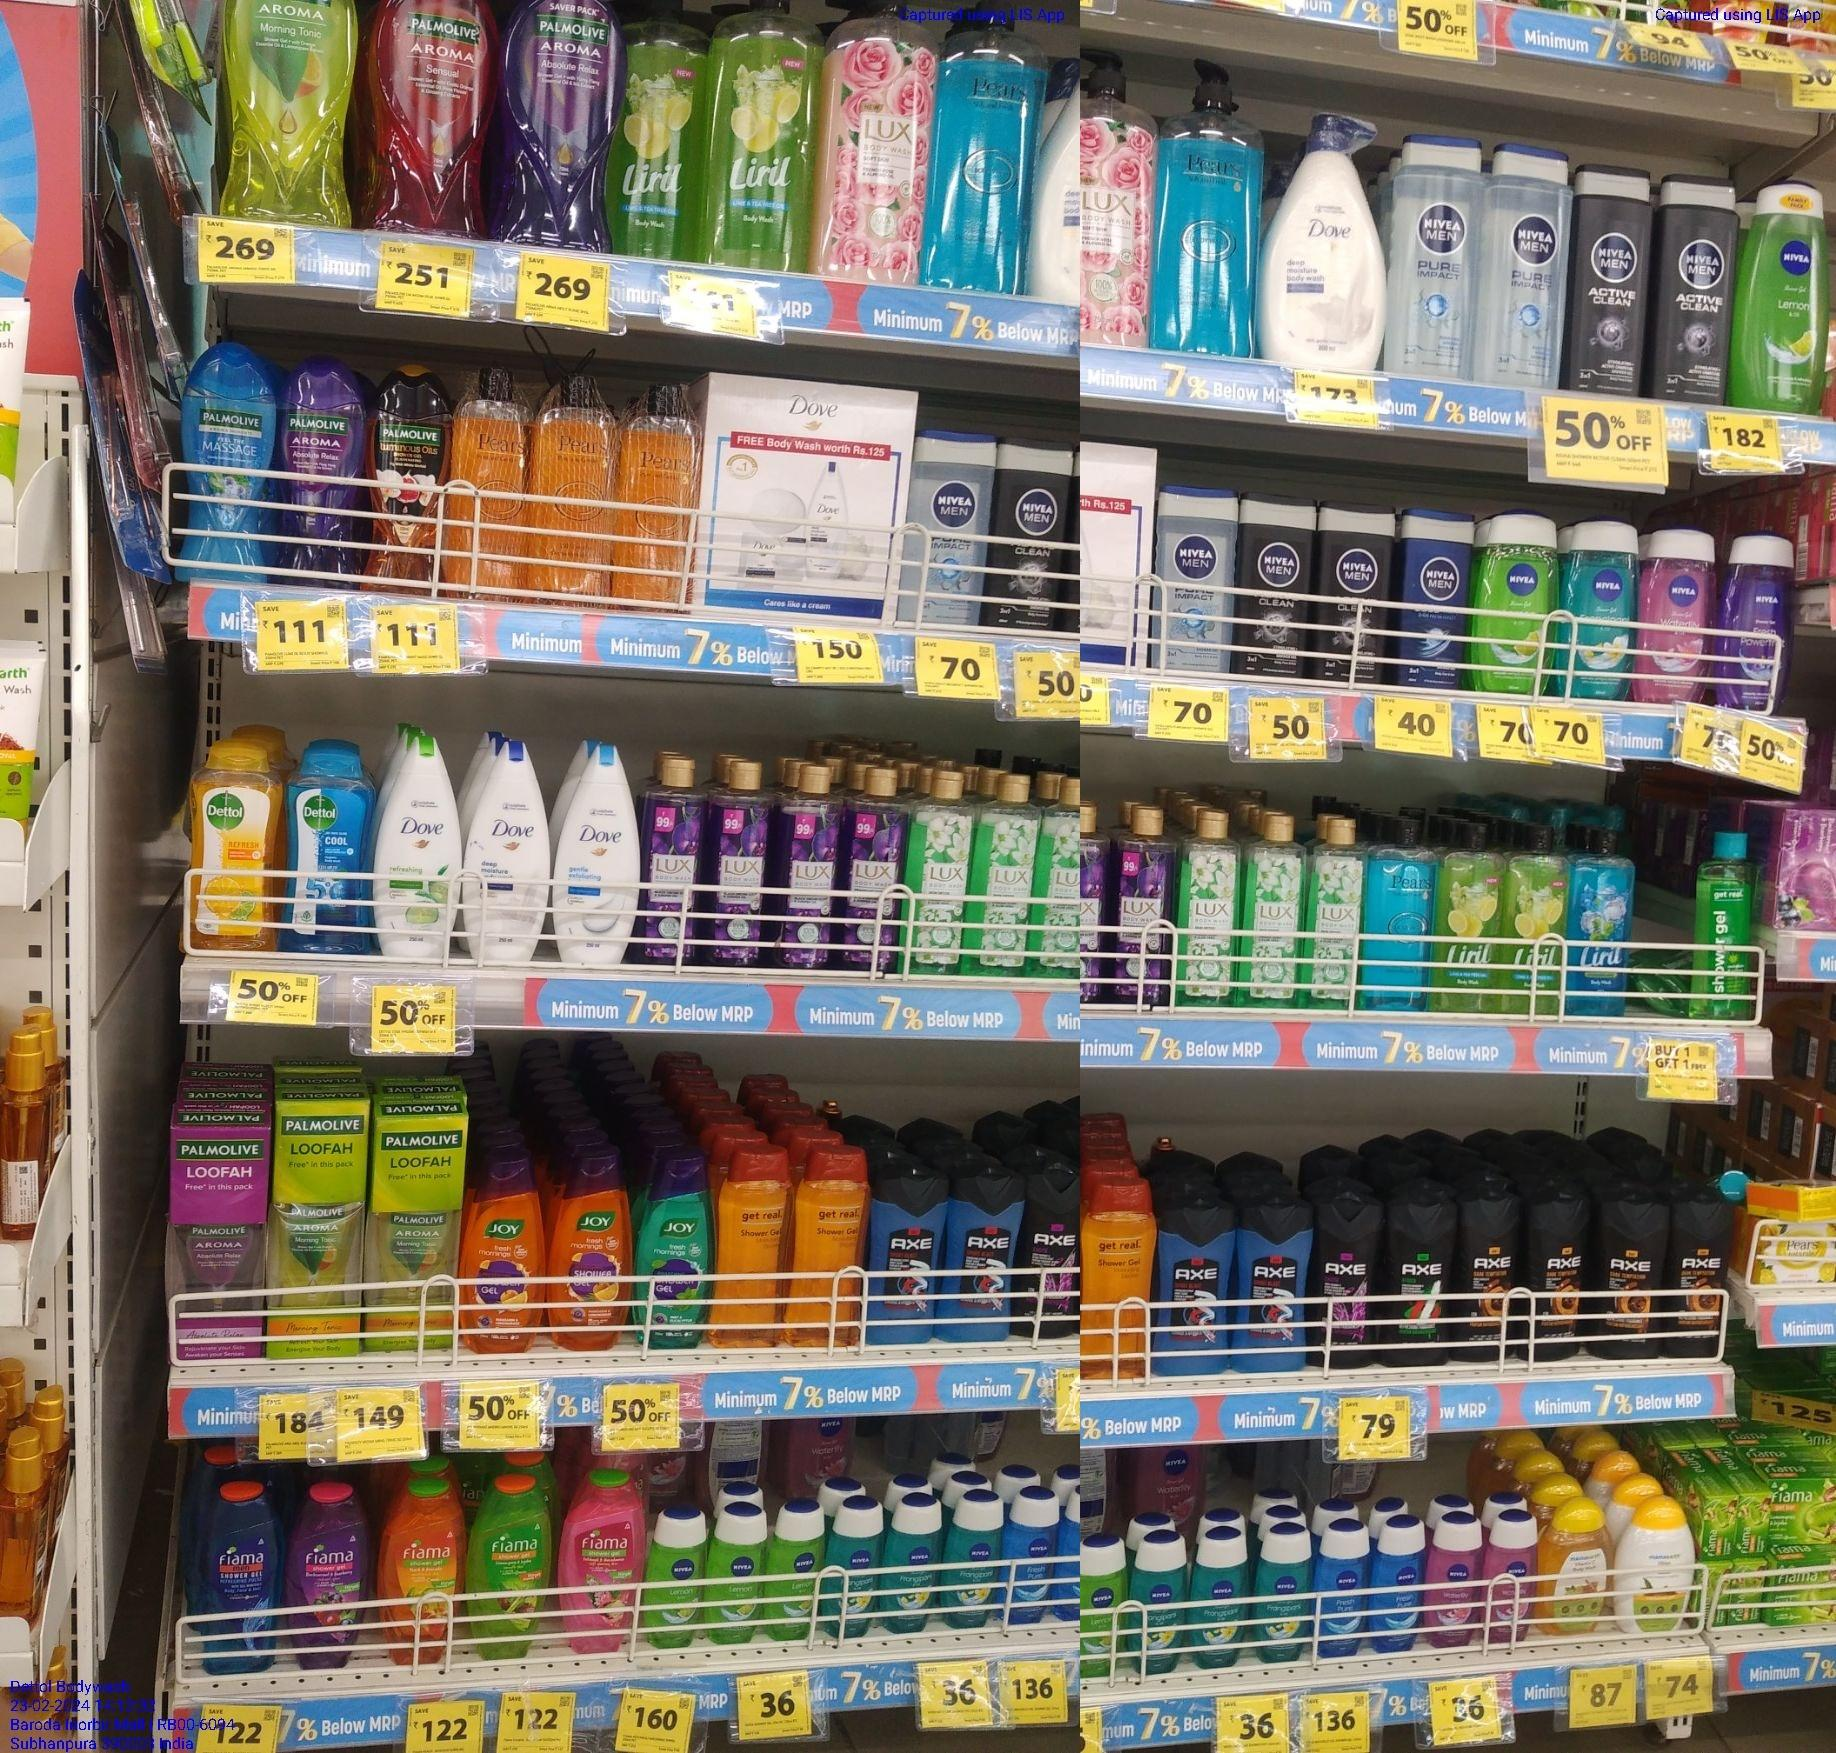Dettol_Bodywash_Cool: (282, 740, 370, 958)
Dettol_Bodywash_Refresh: (190, 744, 269, 949)
Dove_Deep_Moisture_Body_Wash_250ML: (466, 741, 541, 956)
Dove_Gentle_Exfoliating_Body_Wash_250ML: (552, 749, 638, 972)
Dove_Refreshing_Body_Wash_250ML: (377, 738, 459, 959)
Get_Real_Shower_Gel_Moisturising_Glycerin_300ML: (1077, 1177, 1154, 1379), (790, 1150, 866, 1350), (715, 1146, 787, 1346)
Joy_Shower_Gel_Mandarin_and_Lemongrass_250ML: (549, 1153, 629, 1350), (466, 1158, 544, 1351)
Joy_Shower_Gel_Mint_and_Eucalyptus_250ML: (634, 1156, 710, 1346)
Liril_Cooling_Mint_Body_Wash_250ML: (1570, 825, 1629, 1018)
Liril_Lime_and_Tea_Tree_Oil_Body_Wash_250ML: (1500, 826, 1572, 1018), (1438, 825, 1503, 1017)
Lux_Black_Orchid_Scent_and_Juniper_Oil_Body_Wash_245ML: (643, 758, 703, 963), (780, 761, 834, 969), (710, 761, 764, 966), (1113, 804, 1164, 1007), (846, 772, 898, 969)
Lux_Body_Wash_Skin_Detox_Freesia_Scent_and_Alove_Vera_245ML: (905, 772, 966, 976), (1238, 815, 1300, 1012), (1179, 810, 1234, 1009), (972, 767, 1025, 977), (1028, 776, 1082, 977), (1303, 818, 1357, 1010)
Nivea_Shower_Gel_Lemon_and_Oil_250ML: (1729, 177, 1834, 420)
Palmolive_Aroma_Moments_Feel_The_Massage_Shower_Gel_250ML: (177, 344, 272, 589)
Palmolive_Aroma_Relax_250ML: (277, 361, 357, 587)
Palmolive_Luminous_Oils_With_White_Orchid_Shower_Gel_250ML: (361, 364, 446, 594)
Pears_Pure_Glycerin_and_Mint_Extracts_Body_Wash_250ML: (1367, 820, 1428, 1015)
